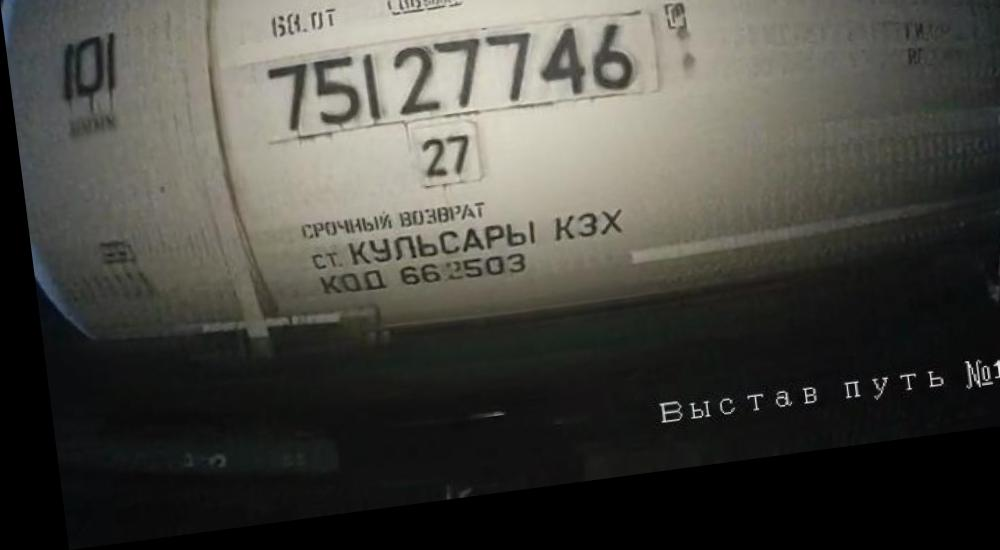Wagon-number: (261, 28, 638, 150)
